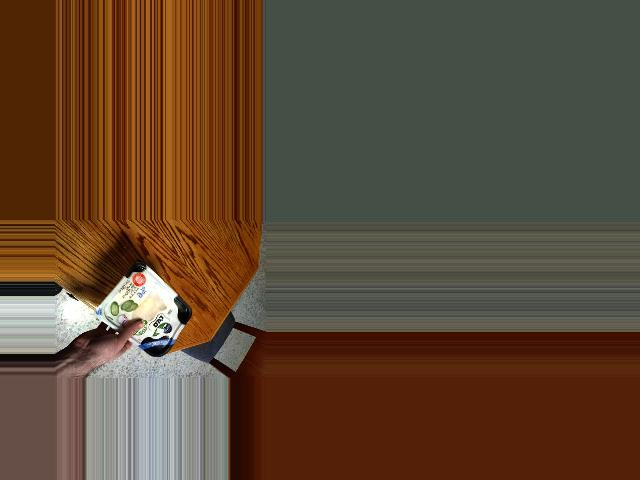cheese: (111, 271, 193, 349)
